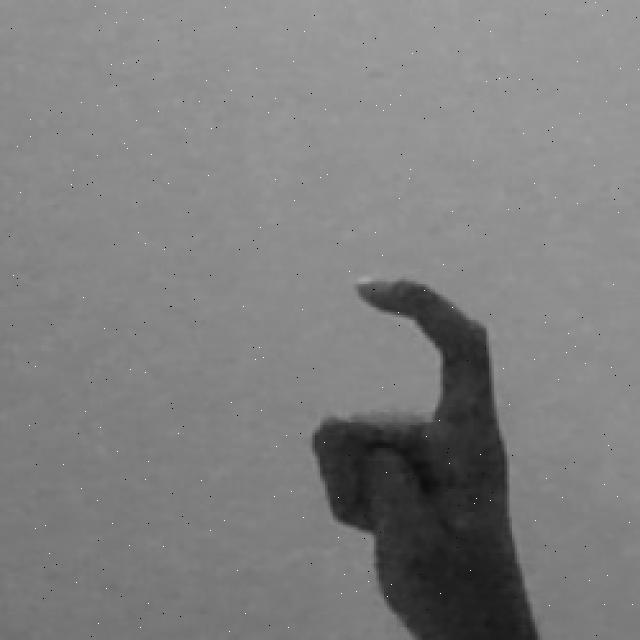X: (307, 270, 544, 640)
